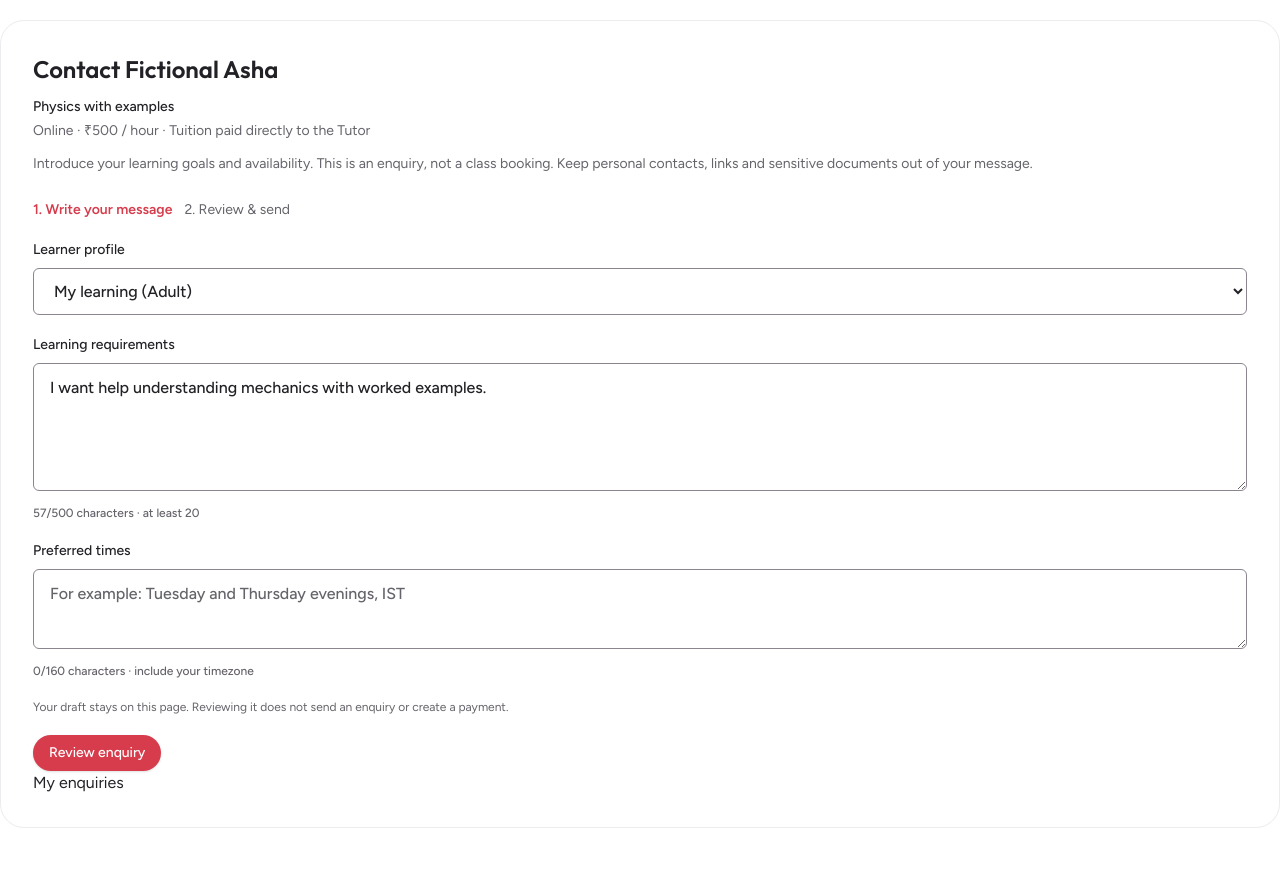
Test: prepares and edits without a request, then sends exactly the reviewed offer revision with coupon access
Type "Tuesday evening IST" into the text box labelled "Preferred times".
click(640, 609); type("Tuesday evening IST")  # box [33,569,1247,649]
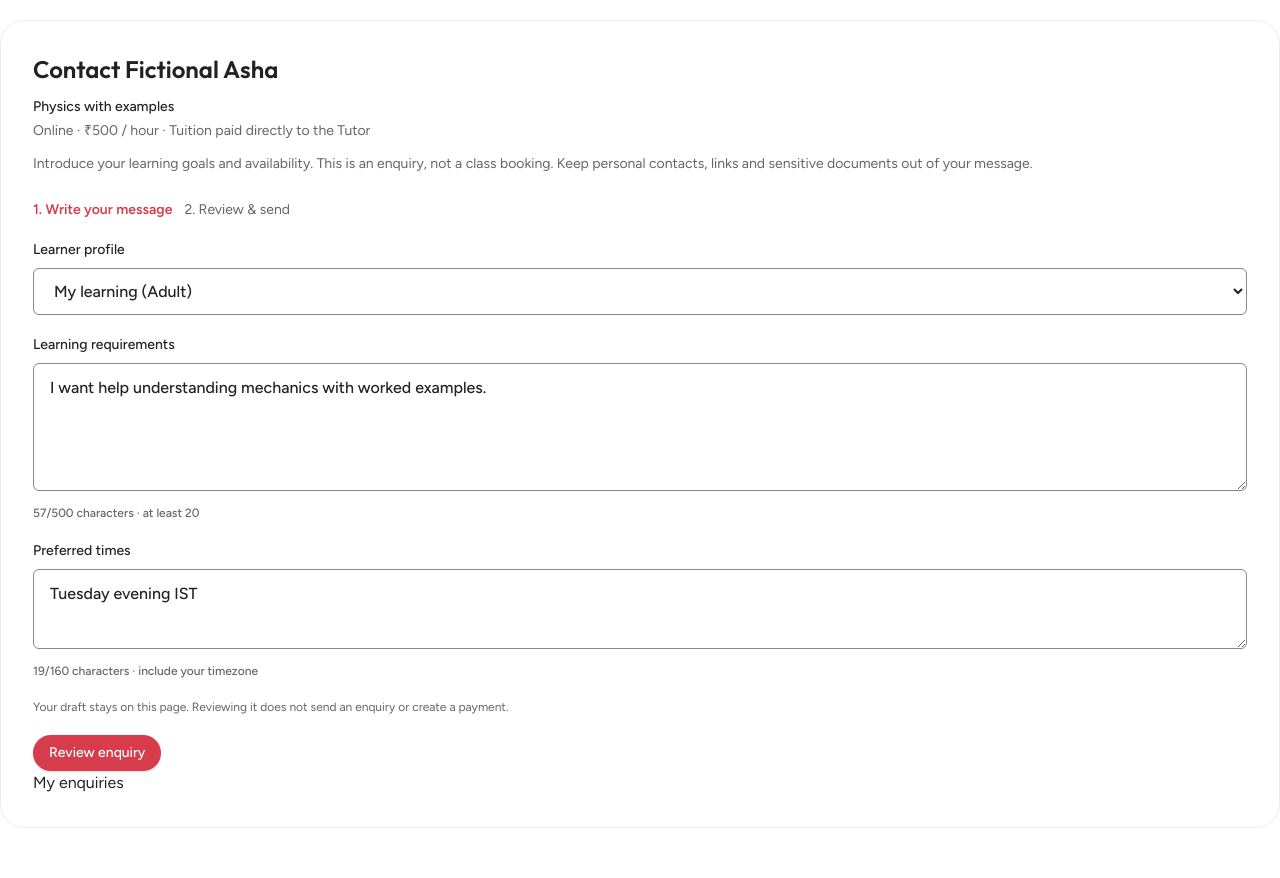
Click the button "Review enquiry".
click(97, 753)  # box [33,735,161,771]
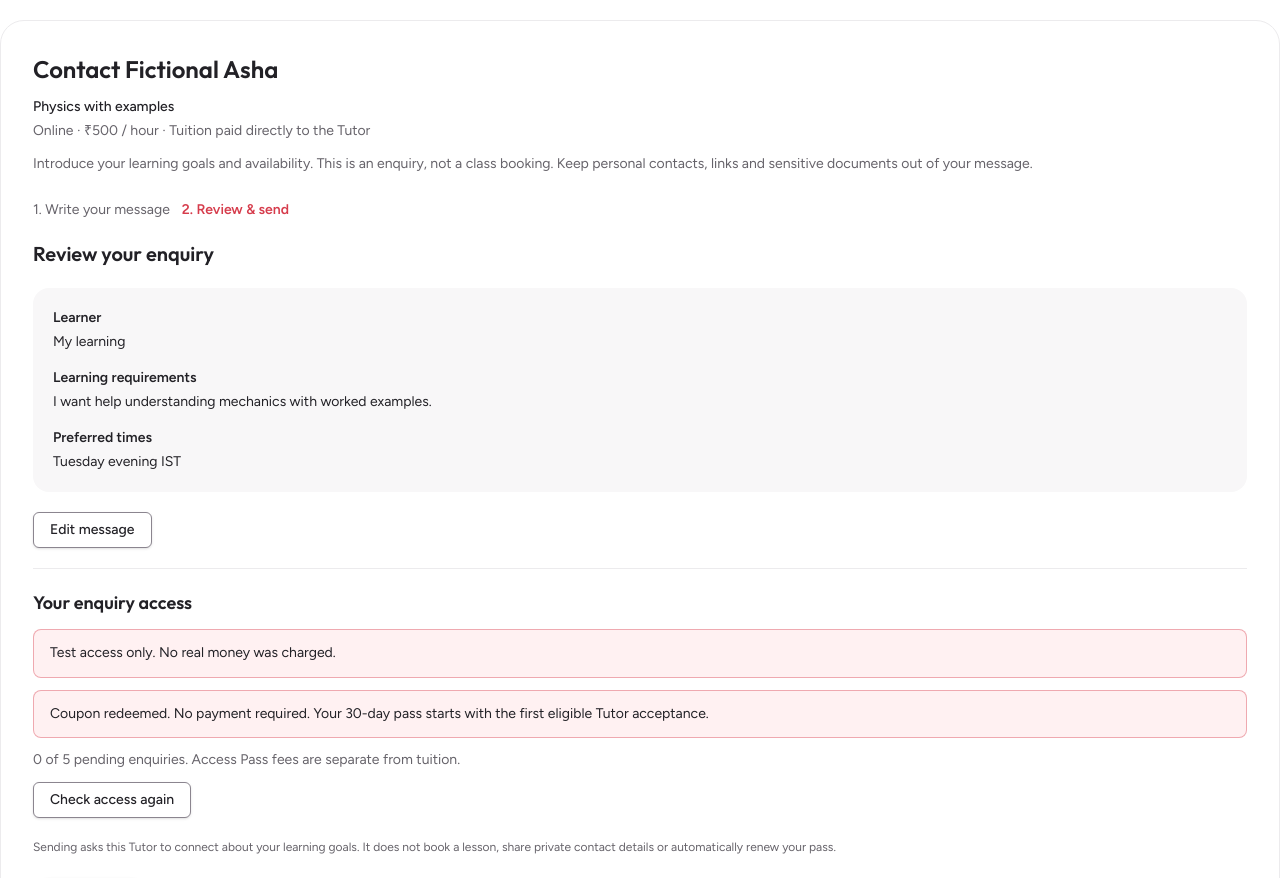
Now the heading "Review your enquiry" is shown, box [33,241,214,266]
Now the text "Coupon redeemed. No payment required" is shown, box [50,704,310,722]
Click the button "Edit message".
click(92, 530)  # box [33,512,152,548]
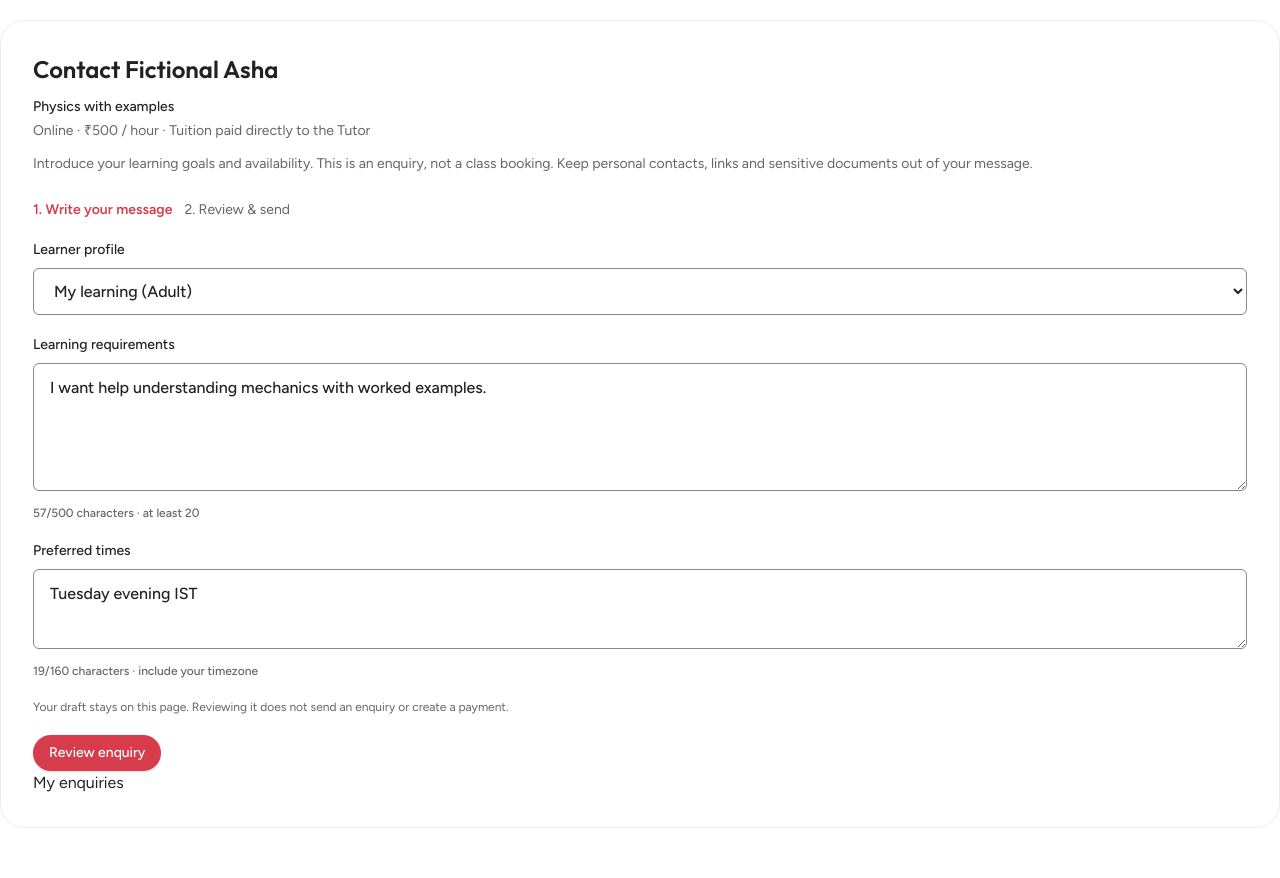
Now the text box labelled "Preferred times" holds "Tuesday evening IST", box [33,569,1247,649]
Click the button "Review enquiry".
click(97, 753)  # box [33,735,161,771]
(page scrolled)
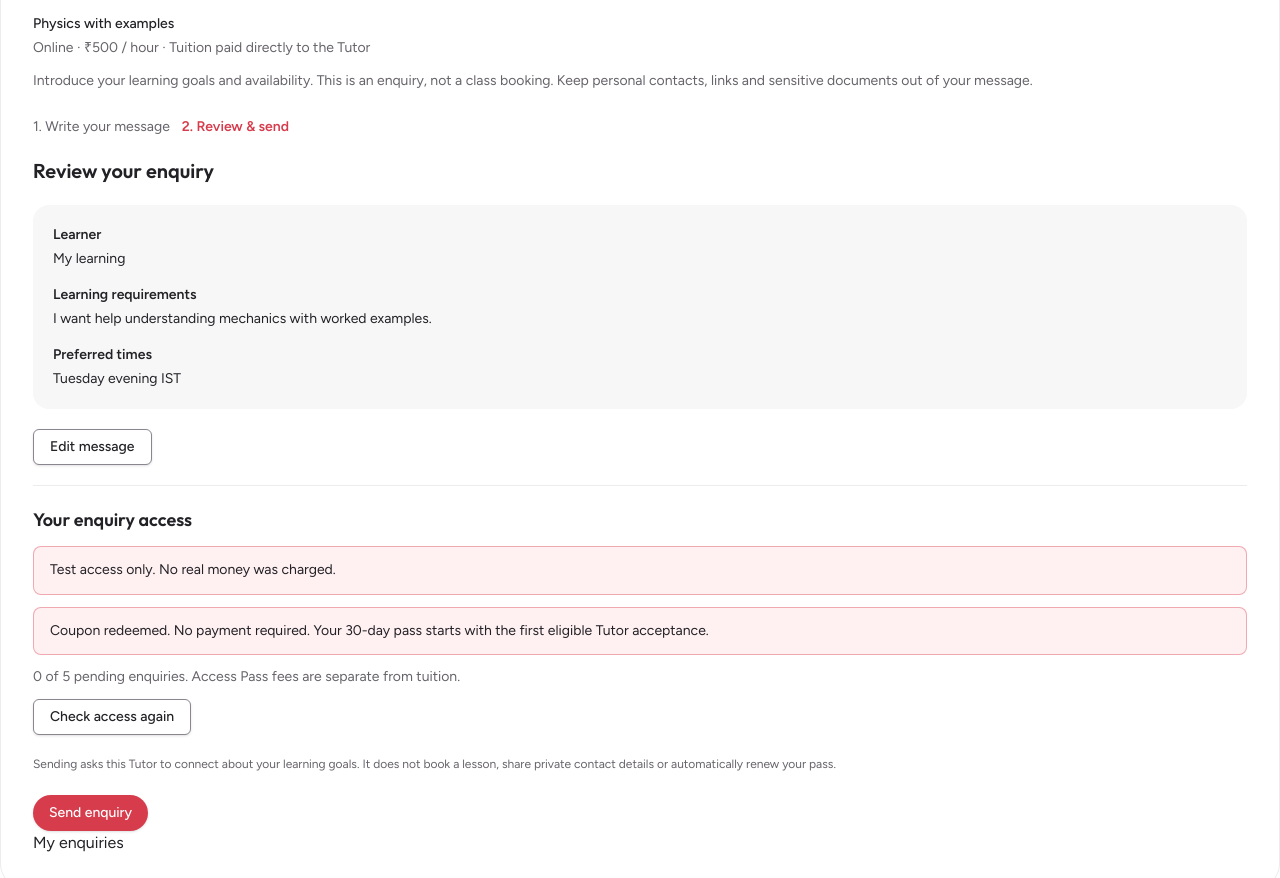
Click the button "Send enquiry".
click(91, 813)  # box [33,795,148,831]
(page scrolled)
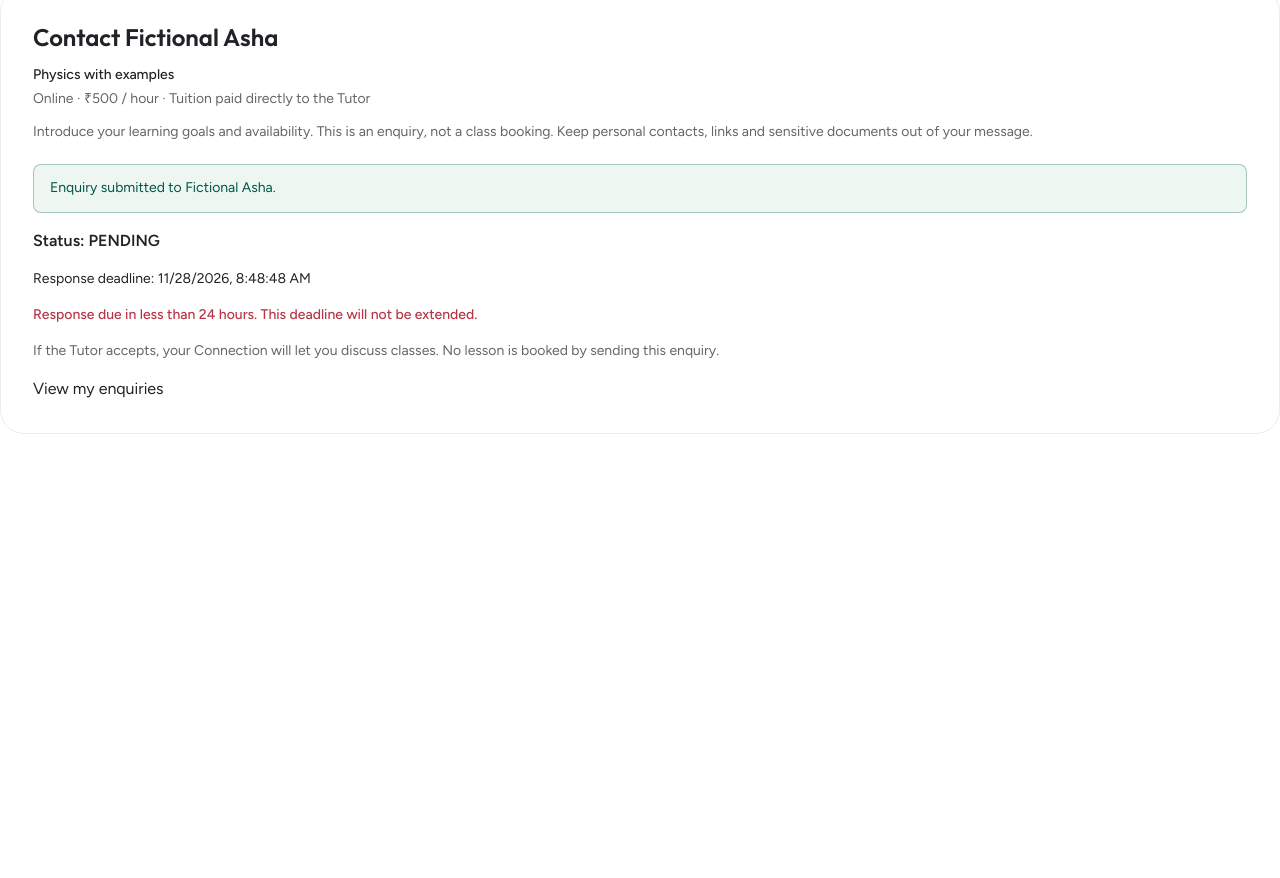
Now the text "Enquiry submitted to Fictional Asha." is shown, box [33,164,1247,213]
Now the text "Status: PENDING" is shown, box [33,230,160,250]
